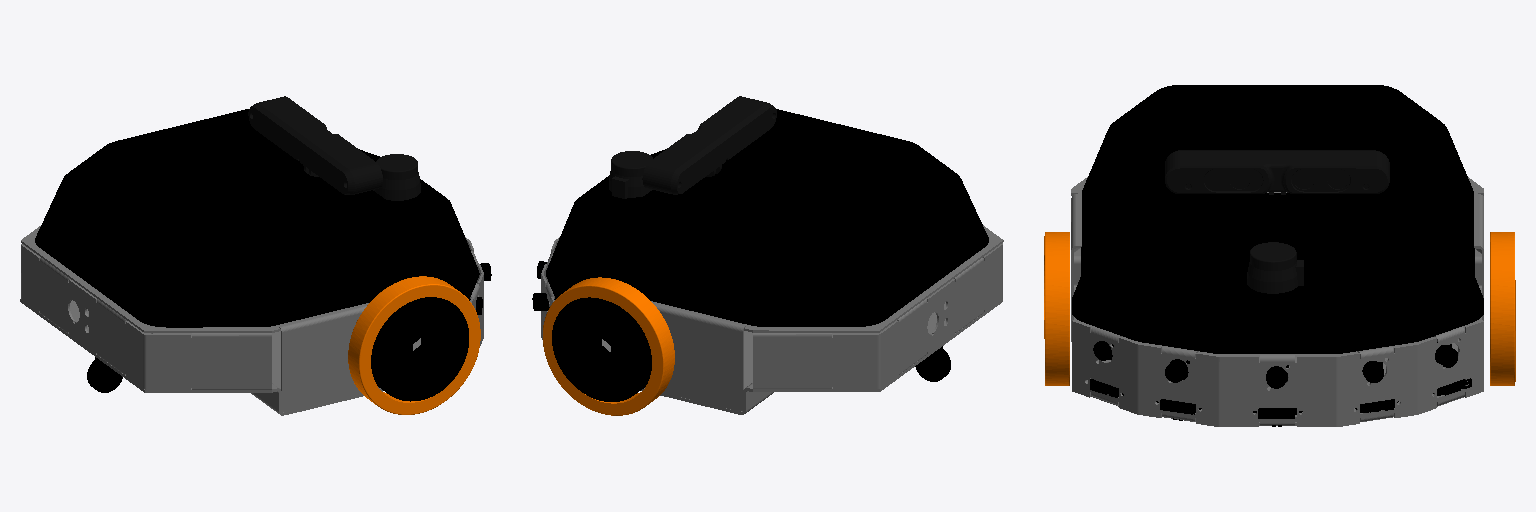
--- Render facts (derived) ---
The picture shows the robot from 3 angles, left to right: view 1: azimuth 30°, elevation 25°; view 2: azimuth 150°, elevation 25°; view 3: azimuth 270°, elevation 25°; orthographic projection.
Robot: minilab — 28 links, 27 joints (27 fixed); root link base_footprint; default pose: all joints at 0.
Links seen in each view (by area): view 1: coque, capot_arriere, capot_batterie, base_link_wheel_left_1, base_link_wheel_left_2, openni_camera, base_link, hokuyo_link, roue-auto-directrice; view 2: coque, capot_arriere, capot_batterie, base_link_wheel_right_1, openni_camera, base_link_wheel_right_2, base_link, hokuyo_link, roue-auto-directrice; view 3: coque, support_capteur, openni_camera, base_link_wheel_left_2, base_link_wheel_right_2, hokuyo_link, capot_batterie, base_link.
Link boxes in pixels (x1,y1,x2,y2): coque: (35,109,479,327); capot_arriere: (21,244,271,390); capot_batterie: (21,226,378,414); base_link_wheel_left_1: (371,297,468,401); base_link_wheel_left_2: (348,276,480,414); openni_camera: (248,96,382,194); base_link: (20,288,420,415); hokuyo_link: (373,154,420,200); roue-auto-directrice: (87,357,122,392); coque: (546,109,988,326); capot_arriere: (753,243,1002,388); capot_batterie: (651,225,1003,411); base_link_wheel_right_1: (552,297,651,401); openni_camera: (642,96,776,194); base_link_wheel_right_2: (543,277,674,415); base_link: (602,287,1002,414); hokuyo_link: (609,151,652,198); roue-auto-directrice: (915,346,950,381); coque: (1072,85,1483,353); support_capteur: (1072,320,1483,426); openni_camera: (1165,150,1389,194); base_link_wheel_left_2: (1044,232,1069,385); base_link_wheel_right_2: (1490,232,1515,385); hokuyo_link: (1247,242,1303,293); capot_batterie: (1071,177,1483,341); base_link: (1074,249,1481,425).
Size in the robot's own frame: 0.6012 by 0.6027 by 0.3142 metres.
Meshes: 12 distinct files referenced, 22 mesh visuals loaded (12 binary STL).

The robot description file, URDF, robot "minilab":
<?xml version="1.0"?>
<robot name="minilab">


  <link name="base_link">
    <collision>
      <origin rpy="0 0 0" xyz="0 0 035"/>
      <geometry>
        <box size="0.7 0.7 0.08"/>
      </geometry>

    </collision>

    <visual>
      <geometry>
        <mesh filename="package://minilab_navigation/meshes/MINILABSTL/embase_dessous.STL" scale="0.0016 0.0016 0.0016"/>

      </geometry>

      <origin rpy="1.57 0 0" xyz="-0.29 0.26 0"/>
      <material name="Grey">
        <color rgba="0.5 0.5 0.5 1"/>
      </material>
    </visual>

    <inertial>
      <mass value="10"/>
      <inertia ixx="1" ixy="0.0" ixz="0.0" iyy="1" iyz="0.0" izz="1"/>
    </inertial>

  </link>


  <link name="base_footprint">
    <collision>
      <origin rpy="0 0 0" xyz="0 0 0"/>
      <geometry>
        <box size="0.7 0.7 0.0"/>
      </geometry>
    </collision>
  </link>


  <joint name="base_footprint" type="fixed">

    <origin rpy="0 0 0" xyz="0 0 0.035"/>
    <parent link="base_footprint"/>
    <child link="base_link"/>
  </joint>



  <link name="capot_batterie">
    <collision>
      <origin xyz="0 0 0" rpy="0 0 0"/>
      <geometry>
        <box size="0.1 0.1 0.1"/>
      </geometry>
    </collision>


    <visual>
      <geometry>
        <mesh filename="package://minilab_navigation/meshes/MINILABSTL/embase_capot_batterie.STL" scale="0.0016 0.0016 0.0016"/>
      </geometry>
      <material name="Grey">
        <color rgba="0.5 0.5 0.5 1"/>
      </material>
    </visual>

  </link>
  <gazebo reference="capot_batterie">
    <mu1>0</mu1>
    <mu2>0</mu2>
    <material>Gazebo/Grey</material>
  </gazebo>

  <joint name="capot_batterie" type="fixed">

    <origin rpy="1.57 0 1.57" xyz="-0.29 -0.268 0"/>
    <parent link="base_link"/>
    <child link="capot_batterie"/>
  </joint>


  <link name="support_capteur">

    <collision>
      <origin xyz="0 0 0" rpy="0 0 0"/>
      <geometry>
        <box size="0.1 0.1 0.1"/>
      </geometry>
    </collision>

    <visual>
      <geometry>
        <mesh filename="package://minilab_navigation/meshes/MINILABSTL/support_telemetrie.STL" scale="0.0016 0.0016 0.0016"/>

      </geometry>
      <material name="Grey">
        <color rgba="0.5 0.5 0.5 1"/>
      </material>

    </visual>

  </link>
  <gazebo reference="support_capteur">
    <mu1>0</mu1>
    <mu2>0</mu2>
    <material>Gazebo/Grey</material>
  </gazebo>

  <joint name="support_capteur" type="fixed">
    <origin rpy="1.57 0 0" xyz="0.185 0.26 0"/>


    <parent link="base_link"/>
    <child link="support_capteur"/>
  </joint>-->

  <link name="capot_arriere">

    <collision>
      <origin xyz="0 0 0" rpy="0 0 0"/>
      <geometry>
        <box size="0.1 0.1 0.1"/>
      </geometry>
    </collision>
    <visual>
      <geometry>
        <mesh filename="package://minilab_navigation/meshes/MINILABSTL/capot_arriere.STL" scale="0.0016 0.0016 0.0016"/>
      </geometry>
      <material name="Grey">
        <color rgba="0.5 0.5 0.5 1"/>
      </material>

    </visual>

  </link>

  <gazebo reference="capot_arriere">
    <mu1>0</mu1>
    <mu2>0</mu2>
    <material>Gazebo/Grey</material>
  </gazebo>

  <joint name="capot_arriere" type="fixed">
    <origin rpy="1.57 0 0" xyz="-0.29 0.26 0.04"/>
    <parent link="base_link"/>
    <child link="capot_arriere"/>
  </joint>

  <link name="capteur_IR5">
    <collision>
      <origin xyz="0 0 0" rpy="0 0 0"/>
      <geometry>
        <box size="0.1 0.1 0.1"/>
      </geometry>
    </collision>

    <visual>
      <geometry>
        <mesh filename="package://minilab_navigation/meshes/MINILABSTL/Telemetre-IR-GP2Y0A21YK0F.STL" scale="0.0016 0.0016 0.0016"/>

      </geometry>
      <material name="Black">
        <color rgba="0 0 0 1"/>
      </material>
    </visual>

  </link>
  <gazebo reference="capteur_IR5">
    <mu1>0</mu1>
    <mu2>0</mu2>
    <material>Gazebo/Black</material>
  </gazebo>

  <joint name="capteur_IR5" type="fixed">

    <origin rpy="-1.57 0 -2.2" xyz="0.22 -0.18 0.03"/>
    <parent link="base_link"/>
    <child link="capteur_IR5"/>
  </joint>

  <link name="capteur_IR4">
    <collision>
      <origin xyz="0 0 0" rpy="0 0 0"/>
      <geometry>
        <box size="0.1 0.1 0.1"/>
      </geometry>
    </collision>

    <visual>
      <geometry>
        <mesh filename="package://minilab_navigation/meshes/MINILABSTL/Telemetre-IR-GP2Y0A21YK0F.STL" scale="0.0016 0.0016 0.0016"/>

      </geometry>
      <material name="Black">
        <color rgba="0 0 0 1"/>
      </material>

    </visual>

  </link>
  <gazebo reference="capteur_IR4">
    <mu1>0</mu1>
    <mu2>0</mu2>
    <material>Gazebo/Black</material>
  </gazebo>

  <joint name="capteur_IR4" type="fixed">

    <origin rpy="-1.57 0 -1.9" xyz="0.262 -0.09 0.03"/>
    <parent link="base_link"/>
    <child link="capteur_IR4"/>
  </joint>

  <link name="capteur_IR3">
    <collision>
      <origin xyz="0 0 0" rpy="0 0 0"/>
      <geometry>
        <box size="0.1 0.1 0.1"/>
      </geometry>
    </collision>

    <visual>
      <geometry>
        <mesh filename="package://minilab_navigation/meshes/MINILABSTL/Telemetre-IR-GP2Y0A21YK0F.STL" scale="0.0016 0.0016 0.0016"/>

      </geometry>
      <material name="Black">
        <color rgba="0 0 0 1"/>
      </material>

    </visual>

  </link>
  <gazebo reference="capteur_IR3">
    <mu1>0</mu1>
    <mu2>0</mu2>
    <material>Gazebo/Black</material>
  </gazebo>

  <joint name="capteur_IR3" type="fixed">
    <origin rpy="-1.57 0 -1.57" xyz="0.27 0.03 0.03"/>
    <parent link="base_link"/>
    <child link="capteur_IR3"/>
  </joint>


  <link name="capteur_IR2">
    <collision>
      <origin xyz="0 0 0" rpy="0 0 0"/>
      <geometry>
        <box size="0.1 0.1 0.1"/>
      </geometry>
    </collision>

    <visual>
      <geometry>
        <mesh filename="package://minilab_navigation/meshes/MINILABSTL/Telemetre-IR-GP2Y0A21YK0F.STL" scale="0.0016 0.0016 0.0016"/>

      </geometry>
      <material name="Black">
        <color rgba="0 0 0 1"/>
      </material>

    </visual>

  </link>
  <gazebo reference="capteur_IR2">
    <mu1>0</mu1>
    <mu2>0</mu2>
    <material>Gazebo/Black</material>
  </gazebo>

  <joint name="capteur_IR2" type="fixed">
    <origin rpy="-1.57 0 -1.3" xyz="0.238 0.15 0.03"/>
    <parent link="base_link"/>
    <child link="capteur_IR2"/>
  </joint>

  <link name="capteur_IR1">
    <collision>
      <origin xyz="0 0 0" rpy="0 0 0"/>
      <geometry>
        <box size="0.1 0.1 0.1"/>
      </geometry>
    </collision>

    <visual>
      <geometry>
        <mesh filename="package://minilab_navigation/meshes/MINILABSTL/Telemetre-IR-GP2Y0A21YK0F.STL" scale="0.0016 0.0016 0.0016"/>

      </geometry>
      <material name="Black">
        <color rgba="0 0 0 1"/>
      </material>
    </visual>
  </link>

  <gazebo reference="capteur_IR1">
    <mu1>0</mu1>
    <mu2>0</mu2>
    <material>Gazebo/Black</material>
  </gazebo>

  <gazebo reference="capteur_IR1_plugin">

    <sensor type="ray" name="IR1">
      <pose>0 0 0 0.0 0.0 0.0</pose>
      <visualize>True</visualize>
      <update_rate>40</update_rate>
      <ray>
        <scan>
          <horizontal>
            <samples>10</samples>
            <resolution>1</resolution>
            <min_angle>-0.01</min_angle>
            <max_angle>0.01</max_angle>
          </horizontal>
        </scan>
        <range>
          <min>0.01</min>
          <max>0.6</max>
          <resolution>0.01</resolution>
        </range>
      </ray>
      <plugin name="ros_IR_controller" filename="libgazebo_ros_laser.so">
        <topicName>IR1</topicName>
        <frameName>capteur_IR1_plugin</frameName>
      </plugin>
    </sensor>
  </gazebo>

  <gazebo reference="capteur_IR2_plugin">
    <material>Gazebo/Black</material>
    <sensor type="ray" name="IR2">
      <pose>0 0 0 0.0 0.0 0.0</pose>
      <visualize>True</visualize>
      <update_rate>40</update_rate>
      <ray>
        <scan>
          <horizontal>
            <samples>10</samples>
            <resolution>1</resolution>
            <min_angle>-0.01</min_angle>
            <max_angle>0.01</max_angle>
          </horizontal>
        </scan>
        <range>
          <min>0.01</min>
          <max>0.6</max>
          <resolution>0.01</resolution>
        </range>
      </ray>
      <plugin name="ros_IR_controller" filename="libgazebo_ros_laser.so">
        <topicName>IR2</topicName>
        <frameName>capteur_IR2_plugin</frameName>
      </plugin>
    </sensor>
  </gazebo>

  <gazebo reference="capteur_IR3_plugin">
    <material>Gazebo/Black</material>
    <sensor type="ray" name="IR3">
      <pose>0 0 0 0.0 0.0 0.0</pose>
      <visualize>True</visualize>
      <update_rate>40</update_rate>
      <ray>
        <scan>
          <horizontal>
            <samples>10</samples>
            <resolution>1</resolution>
            <min_angle>-0.01</min_angle>
            <max_angle>0.01</max_angle>
          </horizontal>
        </scan>
        <range>
          <min>0.01</min>
          <max>0.6</max>
          <resolution>0.01</resolution>
        </range>
      </ray>
      <plugin name="ros_IR_controller" filename="libgazebo_ros_laser.so">
        <topicName>IR3</topicName>
        <frameName>capteur_IR3_plugin</frameName>
      </plugin>
    </sensor>
  </gazebo>

  <gazebo reference="capteur_IR4_plugin">
    <material>Gazebo/Black</material>
    <sensor type="ray" name="IR4">
      <pose>0 0 0 0.0 0.0 0.0</pose>
      <visualize>True</visualize>
      <update_rate>40</update_rate>
      <ray>
        <scan>
          <horizontal>
            <samples>10</samples>
            <resolution>1</resolution>
            <min_angle>-0.01</min_angle>
            <max_angle>0.01</max_angle>
          </horizontal>
        </scan>
        <range>
          <min>0.01</min>
          <max>0.6</max>
          <resolution>0.01</resolution>
        </range>
      </ray>
      <plugin name="ros_IR_controller" filename="libgazebo_ros_laser.so">
        <topicName>IR4</topicName>
        <frameName>capteur_IR4_plugin</frameName>
      </plugin>
    </sensor>
  </gazebo>

  <gazebo reference="capteur_IR5_plugin">
    <material>Gazebo/Black</material>
    <sensor type="ray" name="IR5">
      <pose>0 0 0 0.0 0.0 0.0</pose>
      <visualize>True</visualize>
      <update_rate>40</update_rate>
      <ray>
        <scan>
          <horizontal>
            <samples>10</samples>
            <resolution>1</resolution>
            <min_angle>-0.01</min_angle>
            <max_angle>0.01</max_angle>
          </horizontal>
        </scan>
        <range>
          <min>0.01</min>
          <max>0.6</max>
          <resolution>0.01</resolution>
        </range>
      </ray>
      <plugin name="ros_IR_controller" filename="libgazebo_ros_laser.so">
        <topicName>IR5</topicName>
        <frameName>capteur_IR5_plugin</frameName>
      </plugin>
    </sensor>
  </gazebo>

  <!-- IR1 -->
  <joint name="capteur_IR1_plugin" type="fixed">
    <origin rpy="1.57 -1.57 0.0" xyz="0.05 0.005 0.2"/>
    <parent link="capteur_IR1"/>
    <child link="capteur_IR1_plugin"/>
  </joint>
  <link name="capteur_IR1_plugin" />

  <!-- IR2 -->
  <joint name="capteur_IR2_plugin" type="fixed">
    <origin rpy="1.57 -1.57 0.0" xyz="0.05 0.005 0.2"/>
    <parent link="capteur_IR2"/>
    <child link="capteur_IR2_plugin"/>
  </joint>
  <link name="capteur_IR2_plugin" />

  <!-- IR3 -->
  <joint name="capteur_IR3_plugin" type="fixed">
    <origin rpy="1.57 -1.57 0.0" xyz="0.05 0.005 0.2"/>
    <parent link="capteur_IR3"/>
    <child link="capteur_IR3_plugin"/>
  </joint>
  <link name="capteur_IR3_plugin" />

  <!-- IR4 -->
  <joint name="capteur_IR4_plugin" type="fixed">
    <origin rpy="1.57 -1.57 0.0" xyz="0.05 0.005 0.2"/>
    <parent link="capteur_IR4"/>
    <child link="capteur_IR4_plugin"/>
  </joint>
  <link name="capteur_IR4_plugin" />

  <!-- IR5 -->
  <joint name="capteur_IR5_plugin" type="fixed">
    <origin rpy="1.57 -1.57 0.0" xyz="0.05 0.005 0.2"/>
    <parent link="capteur_IR5"/>
    <child link="capteur_IR5_plugin"/>
  </joint>
  <link name="capteur_IR5_plugin" />



  <joint name="capteur_IR1" type="fixed">
    <origin rpy="-1.57 0 -0.9" xyz="0.17 0.235 0.03"/>
    <parent link="base_link"/>
    <child link="capteur_IR1"/>
  </joint>

  <link name="capteur_US5">
    <collision>
      <origin xyz="0 0 0" rpy="0 0 0"/>
      <geometry>
        <box size="0.1 0.1 0.1"/>
      </geometry>
    </collision>

    <visual>
      <geometry>
        <mesh filename="package://minilab_navigation/meshes/MINILABSTL/US_sensor_SFR02.STL" scale="0.0016 0.0016 0.0016"/>

      </geometry>
      <material name="Black">
        <color rgba="0 0 0 1"/>
      </material>

    </visual>

  </link>
  <gazebo reference="capteur_US5">
    <mu1>0</mu1>
    <mu2>0</mu2>
    <material>Gazebo/Black</material>
  </gazebo>

  <joint name="capteur_US5" type="fixed">

    <origin rpy="-1.57 0 -2.2" xyz="0.22 -0.205 0.094"/>
    <parent link="base_link"/>
    <child link="capteur_US5"/>
  </joint>

  <link name="capteur_US4">
    <collision>
      <origin xyz="0 0 0" rpy="0 0 0"/>
      <geometry>
        <box size="0.1 0.1 0.1"/>
      </geometry>
    </collision>

    <visual>
      <geometry>
        <mesh filename="package://minilab_navigation/meshes/MINILABSTL/US_sensor_SFR02.STL" scale="0.0016 0.0016 0.0016"/>

      </geometry>
      <material name="Black">
        <color rgba="0 0 0 1"/>
      </material>

    </visual>

  </link>
  <gazebo reference="capteur_US4">
    <mu1>0</mu1>
    <mu2>0</mu2>
    <material>Gazebo/Black</material>
  </gazebo>

  <joint name="capteur_US4" type="fixed">
    <origin rpy="-1.57 0 -1.9" xyz="0.28 -0.115 0.094"/>


    <parent link="base_link"/>
    <child link="capteur_US4"/>
  </joint>


  <link name="capteur_US3">
    <collision>
      <origin xyz="0 0 0" rpy="0 0 0"/>
      <geometry>
        <box size="0.1 0.1 0.1"/>
      </geometry>
    </collision>

    <visual>
      <geometry>
        <mesh filename="package://minilab_navigation/meshes/MINILABSTL/US_sensor_SFR02.STL" scale="0.0016 0.0016 0.0016"/>

      </geometry>
      <material name="Black">
        <color rgba="0 0 0 1"/>
      </material>

    </visual>

  </link>
  <gazebo reference="capteur_US3">
    <mu1>0</mu1>
    <mu2>0</mu2>
    <material>Gazebo/Black</material>
  </gazebo>

  <joint name="capteur_US3" type="fixed">
    <origin rpy="-1.57 0 -1.57" xyz="0.29 0.01 0.093"/>


    <parent link="base_link"/>
    <child link="capteur_US3"/>
  </joint>

  <link name="capteur_US2">
    <collision>
      <origin xyz="0 0 0" rpy="0 0 0"/>
      <geometry>
        <box size="0.1 0.1 0.1"/>
      </geometry>
    </collision>

    <visual>
      <geometry>
        <mesh filename="package://minilab_navigation/meshes/MINILABSTL/US_sensor_SFR02.STL" scale="0.0016 0.0016 0.0016"/>

      </geometry>
      <material name="Black">
        <color rgba="0 0 0 1"/>
      </material>

    </visual>

  </link>
  <gazebo reference="capteur_US2">
    <mu1>0</mu1>
    <mu2>0</mu2>
    <material>Gazebo/Black</material>
  </gazebo>

  <joint name="capteur_US2" type="fixed">
    <origin rpy="-1.57 0 -1.3" xyz="0.27 0.13 0.093"/>


    <parent link="base_link"/>
    <child link="capteur_US2"/>
  </joint>


  <link name="capteur_US1">
    <collision>
      <origin xyz="0 0 0" rpy="0 0 0"/>
      <geometry>
        <box size="0.1 0.1 0.1"/>
      </geometry>
    </collision>

    <visual>
      <geometry>
        <mesh filename="package://minilab_navigation/meshes/MINILABSTL/US_sensor_SFR02.STL" scale="0.0016 0.0016 0.0016"/>

      </geometry>

      <material name="Black">
        <color rgba="0 0 0 1"/>
      </material>

    </visual>

  </link>
  <gazebo reference="capteur_US1">
    <mu1>0</mu1>
    <mu2>0</mu2>
    <material>Gazebo/Black</material>
  </gazebo>

  <joint name="capteur_US1" type="fixed">
    <origin rpy="-1.57 0 -0.9" xyz="0.22 0.217 0.093"/>
    <parent link="base_link"/>
    <child link="capteur_US1"/>
  </joint>

  <link name="base_link_wheel_left_1">
    <collision>
      <origin xyz="0 0 0" rpy="0 0 0"/>
      <geometry>
        <box size="0.1 0.1 0.1"/>
      </geometry>
    </collision>
    <visual>
      <geometry>
        <mesh filename="package://minilab_navigation/meshes/MINILABSTL/banebots_wheel_T80P-494BO-HS6.STL" scale="0.0016 0.0016 0.0016"/>
      </geometry>
      <material name="Black">
        <color rgba="0 0 0 1"/>
      </material>
    </visual>
  </link>

  <gazebo reference="base_link_wheel_left_1">
    <mu1>0</mu1>
    <mu2>0</mu2>
    <material>Gazebo/Black</material>
  </gazebo>

  <joint name="base_link_wheel_left_1" type="fixed">
    <origin rpy="1.57 0 -1.57" xyz="0.17 -0.27 -0.01"/>
    <parent link="base_link"/>
    <child link="base_link_wheel_left_1"/>
  </joint>


  <link name="base_link_wheel_right_1">
    <collision>
      <origin xyz="0 0 0" rpy="0 0 0"/>
      <geometry>
        <box size="0.1 0.1 0.1"/>
      </geometry>
    </collision>
    <visual>
      <geometry>
        <mesh filename="package://minilab_navigation/meshes/MINILABSTL/banebots_wheel_T80P-494BO-HS6.STL" scale="0.0016 0.0016 0.0016"/>
      </geometry>
      <material name="Black">
        <color rgba="0 0 0 1"/>
      </material>
    </visual>
  </link>

  <gazebo reference="base_link_wheel_right_1">
    <mu1>0</mu1>
    <mu2>0</mu2>
    <material>Gazebo/Black</material>
  </gazebo>

  <joint name="base_link_wheel_right_1" type="fixed">

    <origin rpy="1.57 0 -1.57" xyz="0.17 0.30 -0.01"/>
    <parent link="base_link"/>
    <child link="base_link_wheel_right_1"/>
  </joint>-->

  <link name="roue-auto-directrice">
    <collision>
      <origin xyz="0 0 0" rpy="0 0 0"/>
      <geometry>
        <box size="0.1 0.1 0.1"/>
      </geometry>
    </collision>

    <visual>
      <geometry>
        <mesh filename="package://minilab_navigation/meshes/MINILABSTL/roue-auto-directrice-Guitel_42-32.STL" scale="0.0016 0.0016 0.0016"/>

      </geometry>
      <material name="Black">
        <color rgba="0 0 0 1"/>
      </material>

    </visual>

  </link>

  <joint name="roue-auto-directrice" type="fixed">

    <origin rpy="1.57 0 0" xyz="-0.29 0 -0.025"/>
    <parent link="base_link"/>
    <child link="roue-auto-directrice"/>
  </joint>-->

  <link name="coque">
    <collision>
      <origin xyz="0 0 0" rpy="0 0 0"/>
      <geometry>
        <box size="0.1 0.1 0.1"/>
      </geometry>
    </collision>

    <visual>
      <geometry>
        <mesh filename="package://minilab_navigation/meshes/MINILABSTL/coque_moule.STL" scale="0.0016 0.0016 0.0016"/>

      </geometry>
      <material name="Black">
        <color rgba="0 0 0 1"/>
      </material>

    </visual>

  </link>
  <gazebo reference="coque">
    <mu1>0</mu1>
    <mu2>0</mu2>
    <material>Gazebo/Black</material>
  </gazebo>

  <joint name="coque" type="fixed">
    <origin rpy="1.57 0 0" xyz="-0.28 0.26 0.1"/>
    <parent link="base_link"/>
    <child link="coque"/>
  </joint>


  <link name="base_link_wheel_right_2">
    <collision>
      <origin xyz="0 0 0" rpy="0 0 0"/>
      <geometry>
        <box size="0.1 0.1 0.1"/>
      </geometry>
    </collision>

    <visual>
      <geometry>
        <mesh filename="package://minilab_navigation/meshes/MINILABSTL/banebots_wheel_T80P-494BO-HS6orange.STL" scale="0.0016 0.0016 0.0016"/>

      </geometry>

      <material name="Orange">
        <color rgba="1 0.5 0 1"/>
      </material>
    </visual>

  </link>
  <gazebo reference="base_link_wheel_right_2">
    <mu1>0</mu1>
    <mu2>0</mu2>
    <material>Gazebo/Orange</material>
  </gazebo>

  <joint name="base_link_wheel_right_2" type="fixed">

    <origin rpy="1.57 0 -1.57" xyz="0.185 0.30 -0.03"/>
    <parent link="base_link"/>
    <child link="base_link_wheel_right_2"/>
  </joint>-->

  <link name="base_link_wheel_left_2">
    <collision>
      <origin xyz="0 0 0" rpy="0 0 0"/>
      <geometry>
        <box size="0.1 0.1 0.1"/>
      </geometry>
    </collision>

    <visual>
      <geometry>
        <mesh filename="package://minilab_navigation/meshes/MINILABSTL/banebots_wheel_T80P-494BO-HS6orange.STL" scale="0.0016 0.0016 0.0016"/>

      </geometry>
      <material name="Orange">
        <color rgba="1 0.5 0 1"/>
      </material>

    </visual>

  </link>
  <gazebo reference="base_link_wheel_left_2">
    <mu1>0</mu1>
    <mu2>0</mu2>
    <material>Gazebo/Orange</material>
  </gazebo>

  <joint name="base_link_wheel_left_2" type="fixed">

    <origin rpy="1.57 0 -1.57" xyz="0.185 -0.27 -0.03"/>
    <parent link="base_link"/>
    <child link="base_link_wheel_left_2"/>
  </joint>-->

  <link name="hokuyo_link">
    <collision>
      <origin xyz="0 0 0" rpy="0 0 0"/>
      <geometry>
        <box size="0.1 0.1 0.1"/>
      </geometry>
    </collision>
    <visual>
      <origin rpy="-1.57 0 0" xyz="-0.1 0 0.1"/>
      <geometry>
        <mesh filename="package://minilab_navigation/meshes/MINILABSTL/Laser-hokuyo_URG-04LX.STL" scale="0.0016 0.0016 0.0016"/>
      </geometry>
      <material name="Grey">
        <color rgba="0.1 0.1 0.1 1"/>
      </material>
    </visual>
  </link>


  <joint name="hokuyo_joint" type="fixed">
    <origin rpy="3.14 0 0" xyz="0.2 0.03 0.2"/>
    <parent link="base_link"/>
    <child link="hokuyo_link"/>
  </joint>


  <gazebo reference="hokuyo_link">
    <sensor type="ray" name="laser">
      <pose>0 0 0 0 0 0</pose>
      <visualize>True</visualize>
      <update_rate>40</update_rate>
      <ray>
        <scan>
          <horizontal>
            <samples>720</samples>
            <resolution>1</resolution>
            <min_angle>-1.57</min_angle>
            <max_angle>1.57</max_angle>
          </horizontal>
        </scan>
        <range>
          <min>0.10</min>
          <max>15</max>
          <resolution>0.01</resolution>
        </range>
        <!--<noise>
        <type>gaussian</type>
        Noise parameters based on published spec for Hokuyo laser
        achieving "+-30mm" accuracy at range < 10m.  A mean of 0.0m and
        stddev of 0.01m will put 99.7% of samples within 0.03m of the true reading.
        <mean>0.0</mean>
        <stddev>0.01</stddev>
      </noise>-->
    </ray>

    <plugin name="ros_hokuyo_controller" filename="libgazebo_ros_laser.so">
      <topicName>scan</topicName>
      <frameName>hokuyo_link</frameName>
    </plugin>
  </sensor>
</gazebo>



<!-- openni_camera -->
<link name="openni_camera">
  <collision>
    <origin xyz="0 0 0" rpy="0 0 0"/>
    <geometry>
      <box size="0.1 0.1 0.1"/>
    </geometry>
  </collision>
  <visual>
    <origin xyz="-0.35 -0.15 0" rpy="1.57 0 1.57"/>
    <geometry>
      <mesh filename="package://minilab_navigation/meshes/MINILABSTL/Kinect - Asus-Xtion-capteur-1.STL" scale="0.0016 0.0016 0.0016"/>
    </geometry>
    <material name="Grey">
      <color rgba="0.1 0.1 0.1 1"/>
    </material>
  </visual>
</link>

<joint name="openni_camera" type="fixed">
  <origin xyz="0.15 0 0.2"/>
  <parent link="base_link"/>
  <child link="openni_camera"/>
</joint>

<gazebo reference="openni_camera">
  <sensor type="depth" name="openni_camera_camera">

    <always_on>1</always_on>
    <visualize>true</visualize>
    <camera>
      <horizontal_fov>1.047</horizontal_fov>
      <image>
        <width>640</width>
        <height>480</height>
        <format>R8G8B8</format>
      </image>
      <depth_camera>

      </depth_camera>
      <clip>
        <near>0.1</near>
        <far>100</far>
      </clip>
    </camera>
    <plugin name="camera_controller" filename="libgazebo_ros_openni_kinect.so">
      <alwaysOn>true</alwaysOn>
      <updateRate>10.0</updateRate>
      <cameraName>camera</cameraName>
      <frameName>openni_camera</frameName>
      <imageTopicName>rgb/image_raw</imageTopicName>
      <depthImageTopicName>depth/image_raw</depthImageTopicName>
      <pointCloudTopicName>depth/points</pointCloudTopicName>
      <cameraInfoTopicName>rgb/camera_info</cameraInfoTopicName>
      <depthImageCameraInfoTopicName>depth/camera_info</depthImageCameraInfoTopicName>
      <pointCloudCutoff>0.4</pointCloudCutoff>
      <hackBaseline>0.07</hackBaseline>
      <distortionK1>0.0</distortionK1>
      <distortionK2>0.0</distortionK2>
      <distortionK3>0.0</distortionK3>
      <distortionT1>0.0</distortionT1>
      <distortionT2>0.0</distortionT2>
      <CxPrime>0.0</CxPrime>
      <Cx>0.0</Cx>
      <Cy>0.0</Cy>
      <focalLength>0.0</focalLength>
    </plugin>
  </sensor>
</gazebo>


<static>0</static>

<gazebo>
  <plugin name='object_controller' filename='libgazebo_ros_planar_move.so'>
    <commandTopic>cmd_vel</commandTopic>
    <odometryTopic>odom</odometryTopic>
    <odometryFrame>odom</odometryFrame>
    <odometryRate>20.0</odometryRate>
    <robotBaseFrame>base_footprint</robotBaseFrame>
  </plugin>
</gazebo>

</robot>
